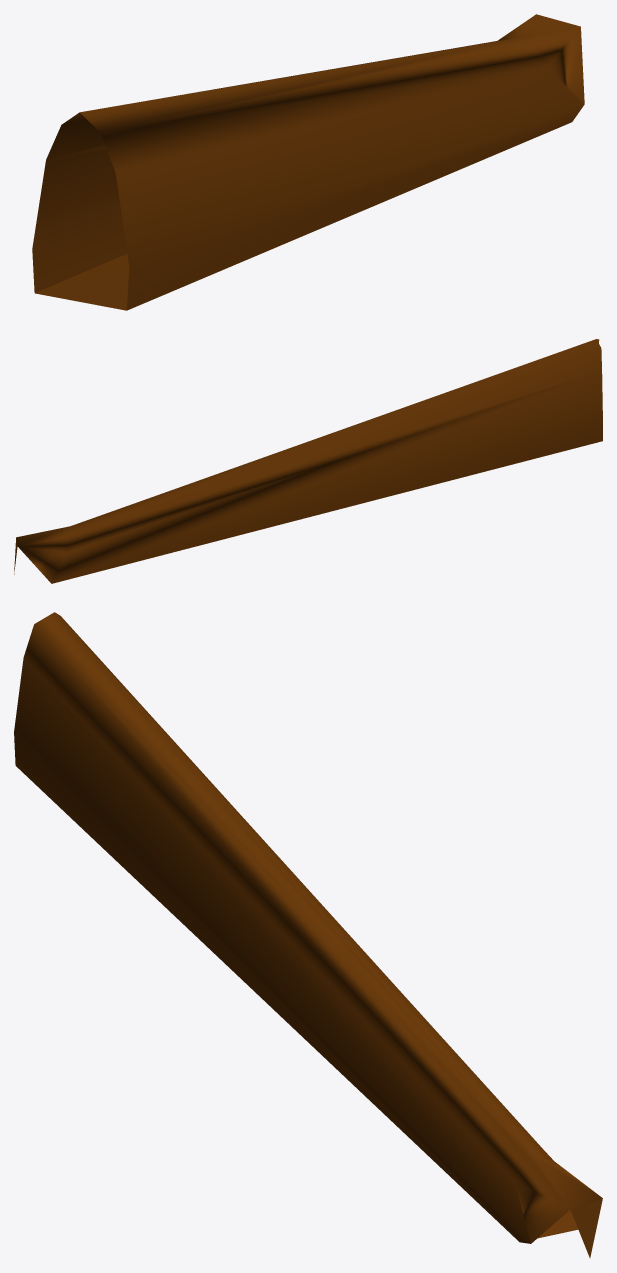
Rendered from original-25.obj.
The picture shows the model from 3 angles, top to bottom: view 1: azimuth 30°, elevation 25°; view 2: azimuth 150°, elevation 25°; view 3: azimuth 270°, elevation 25°; orthographic projection. The views are drawn at different scales.
Visible parts, largest first — view 1: mesh25/mesh25-geometry#mesh25-geometry; view 2: mesh25/mesh25-geometry#mesh25-geometry; view 3: mesh25/mesh25-geometry#mesh25-geometry.
Boxes of the visible parts, x1,y1,x2,y2 form: mesh25/mesh25-geometry#mesh25-geometry: (32, 14, 584, 310); mesh25/mesh25-geometry#mesh25-geometry: (14, 339, 602, 583); mesh25/mesh25-geometry#mesh25-geometry: (14, 612, 602, 1258).
Size of the model in its own units: 0.4162 by 0.1964 by 0.315.
